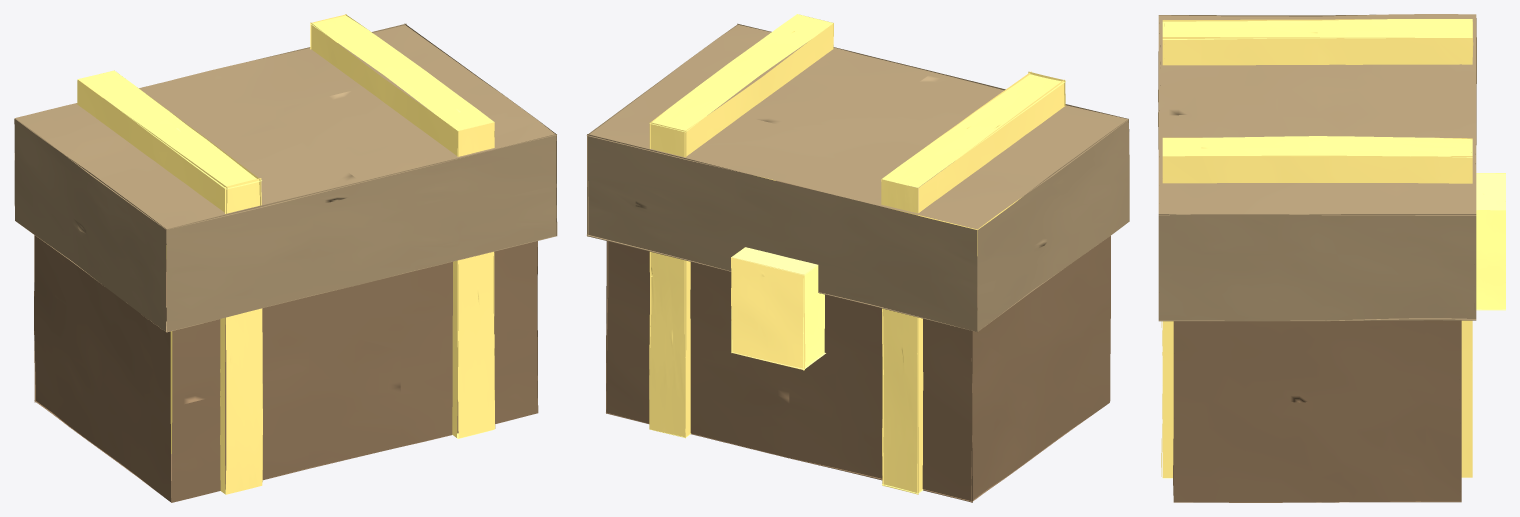
Rendered from chest.glb.
3 renders of one model, left to right at view 1: azimuth 30°, elevation 25°; view 2: azimuth 150°, elevation 25°; view 3: azimuth 270°, elevation 25°, orthographic. The views are drawn at different scales.
Parts seen in each view (by area): view 1: ChestBody; view 2: ChestBody; view 3: ChestBody.
Boxes of the visible parts, box(x1,y1,x2,y2) form: ChestBody: box(14, 14, 557, 502); ChestBody: box(586, 14, 1129, 502); ChestBody: box(1158, 14, 1505, 502).
Size of the model in its own units: 1.28 by 0.9682 by 0.942.
